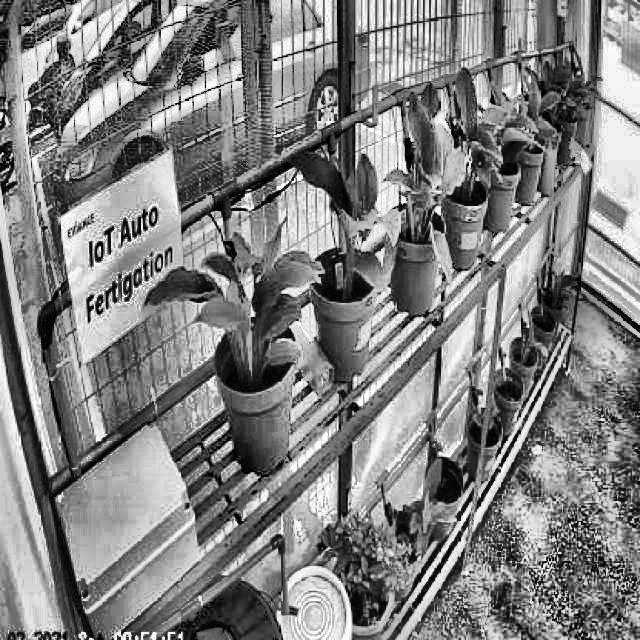plants: (139, 214, 324, 383), (393, 74, 472, 296), (290, 142, 399, 288), (444, 68, 502, 214)
